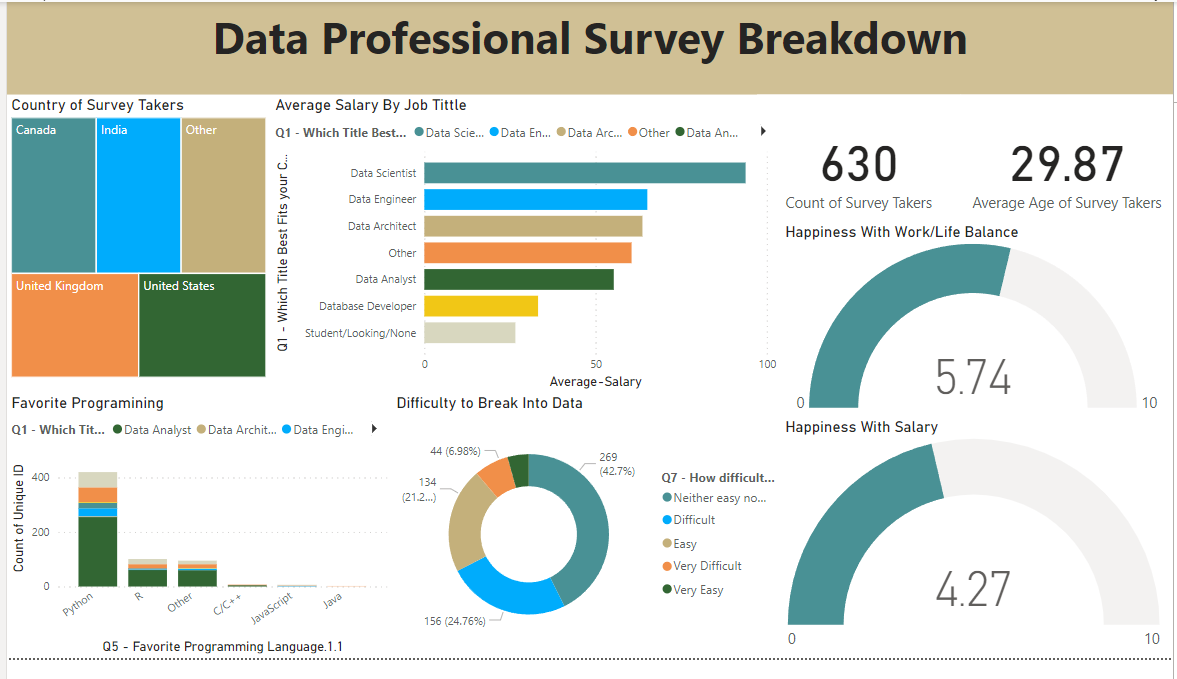

Layout of this report page (visuals, bound fields, positions):
{"tool":"powerbi","page":{"name":"Page 1","canvas":[1280,720],"ordinal":0},"visuals":[{"type":"textbox","box":[0,0,1280.3,101.5],"z":0},{"type":"card","fields":{"Values":["Count(Data Professional Survey.Unique ID)"]},"box":[823.3,101.5,223.7,160.5],"z":1000},{"type":"card","fields":{"Values":["Avg(Data Professional Survey.Q10 - Current Age)"]},"box":[1047,101.5,233.3,160.5],"z":2000},{"type":"barChart","title":"Average Salary By Job Tittle","fields":{"Category":["Data Professional Survey.Q1 - Which Title Best Fits your Current Role?.1"],"Y":["Avg(Data Professional Survey.Average-Salary)"],"Series":["Data Professional Survey.Q1 - Which Title Best Fits your Current Role?.1"]},"box":[289.5,102.9,559.9,326.6],"z":3000},{"type":"columnChart","title":"Favorite Programining","fields":{"Category":["Data Professional Survey.Q5 - Favorite Programming Language.1.1"],"Y":["CountNonNull(Data Professional Survey.Unique ID)"],"Series":["Data Professional Survey.Q1 - Which Title Best Fits your Current Role?.1"]},"box":[0,429.5,422.6,290.9],"z":4000},{"type":"treemap","title":"Country of Survey Takers","fields":{"Group":["Data Professional Survey.Q11 - Which Country do you live in?.1.1.1"],"Values":["Count(Data Professional Survey.Q11 - Which Country do you live in?.1.1.1)"]},"box":[0,102.9,289.5,314.2],"z":5000},{"type":"gauge","title":"Happiness With Salary","fields":{"Y":["Avg(Data Professional Survey.Q6 - How Happy are you in your Current Position with the following? (Salary))"],"MinValue":["Min(Data Professional Survey.Q6 - How Happy are you in your Current Position with the following? (Salary))"],"MaxValue":["Max(Data Professional Survey.Q6 - How Happy are you in your Current Position with the following? (Salary))"]},"box":[849.4,455.6,424,264.8],"z":5001},{"type":"gauge","title":"Happiness With Work/Life Balance","fields":{"Y":["Avg(Data Professional Survey.Q6 - How Happy are you in your Current Position with the following? (Work/Life Balance))"],"MinValue":["Min(Data Professional Survey.Q6 - How Happy are you in your Current Position with the following? (Work/Life Balance))"],"MaxValue":["Max(Data Professional Survey.Q6 - How Happy are you in your Current Position with the following? (Work/Life Balance))1"]},"box":[849.4,241.5,430.9,214.1],"z":5002},{"type":"donutChart","title":"Difficulty to Break Into Data","fields":{"Category":["Data Professional Survey.Q7 - How difficult was it for you to break into Data?"],"Y":["CountNonNull(Data Professional Survey.Q7 - How difficult was it for you to break into Data?)"]},"box":[422.6,429.5,426.8,290.9],"z":5003}]}

Visuals, with their boxes in screenshot pixels (x1, y1, x2, y2), scaled from the page's 1280x720 canvas onto the 1177x679 screenshot:
textbox: [x1=0, y1=0, x2=1176, y2=96]
card - Count(Data Professional Survey.Unique ID): [x1=757, y1=96, x2=963, y2=247]
card - Avg(Data Professional Survey.Q10 - Current Age): [x1=963, y1=96, x2=1176, y2=247]
"Average Salary By Job Tittle" barChart: [x1=266, y1=97, x2=781, y2=405]
"Favorite Programining" columnChart: [x1=0, y1=405, x2=389, y2=678]
"Country of Survey Takers" treemap: [x1=0, y1=97, x2=266, y2=393]
"Happiness With Salary" gauge: [x1=781, y1=430, x2=1171, y2=678]
"Happiness With Work/Life Balance" gauge: [x1=781, y1=228, x2=1176, y2=430]
"Difficulty to Break Into Data" donutChart: [x1=389, y1=405, x2=781, y2=678]
